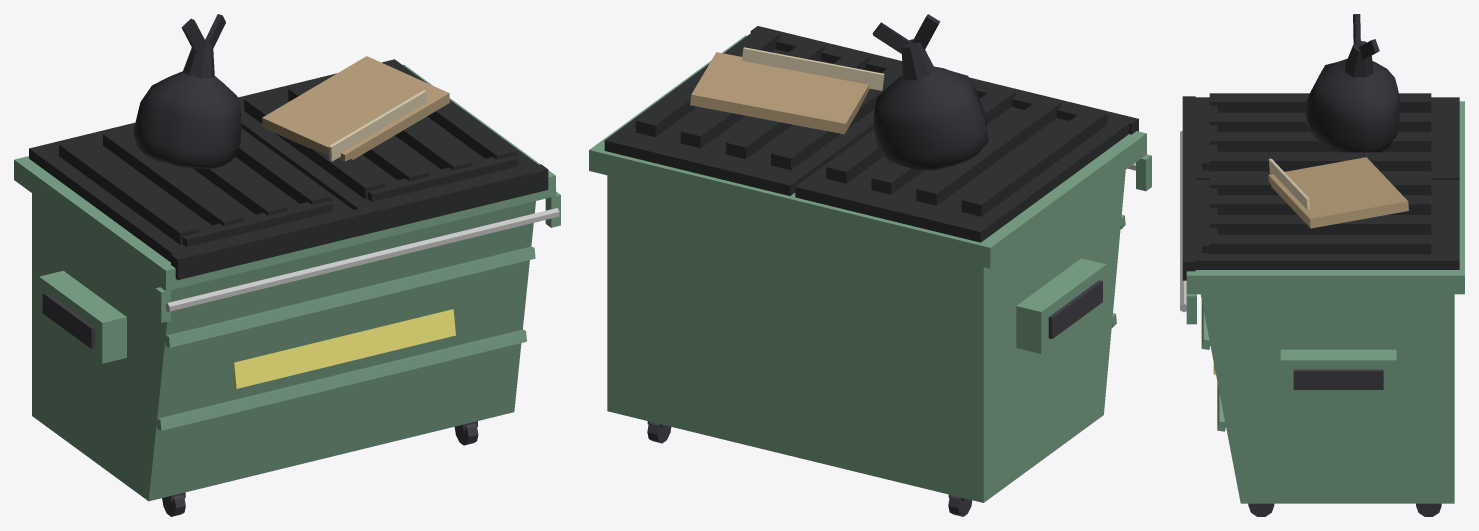
Rendered from trash_bin.glb.
3 renders of one model, left to right at view 1: azimuth 30°, elevation 25°; view 2: azimuth 150°, elevation 25°; view 3: azimuth 270°, elevation 25°, orthographic. The views are drawn at different scales.
Visible parts, largest first — view 1: TrashBin; view 2: TrashBin; view 3: TrashBin.
Boxes of the visible parts, x1=… form: TrashBin: x1=14, y1=14, x2=560, y2=516; TrashBin: x1=589, y1=14, x2=1151, y2=516; TrashBin: x1=1180, y1=14, x2=1464, y2=516.
Size of the model in its own units: 1.73 by 1.72 by 1.11.
